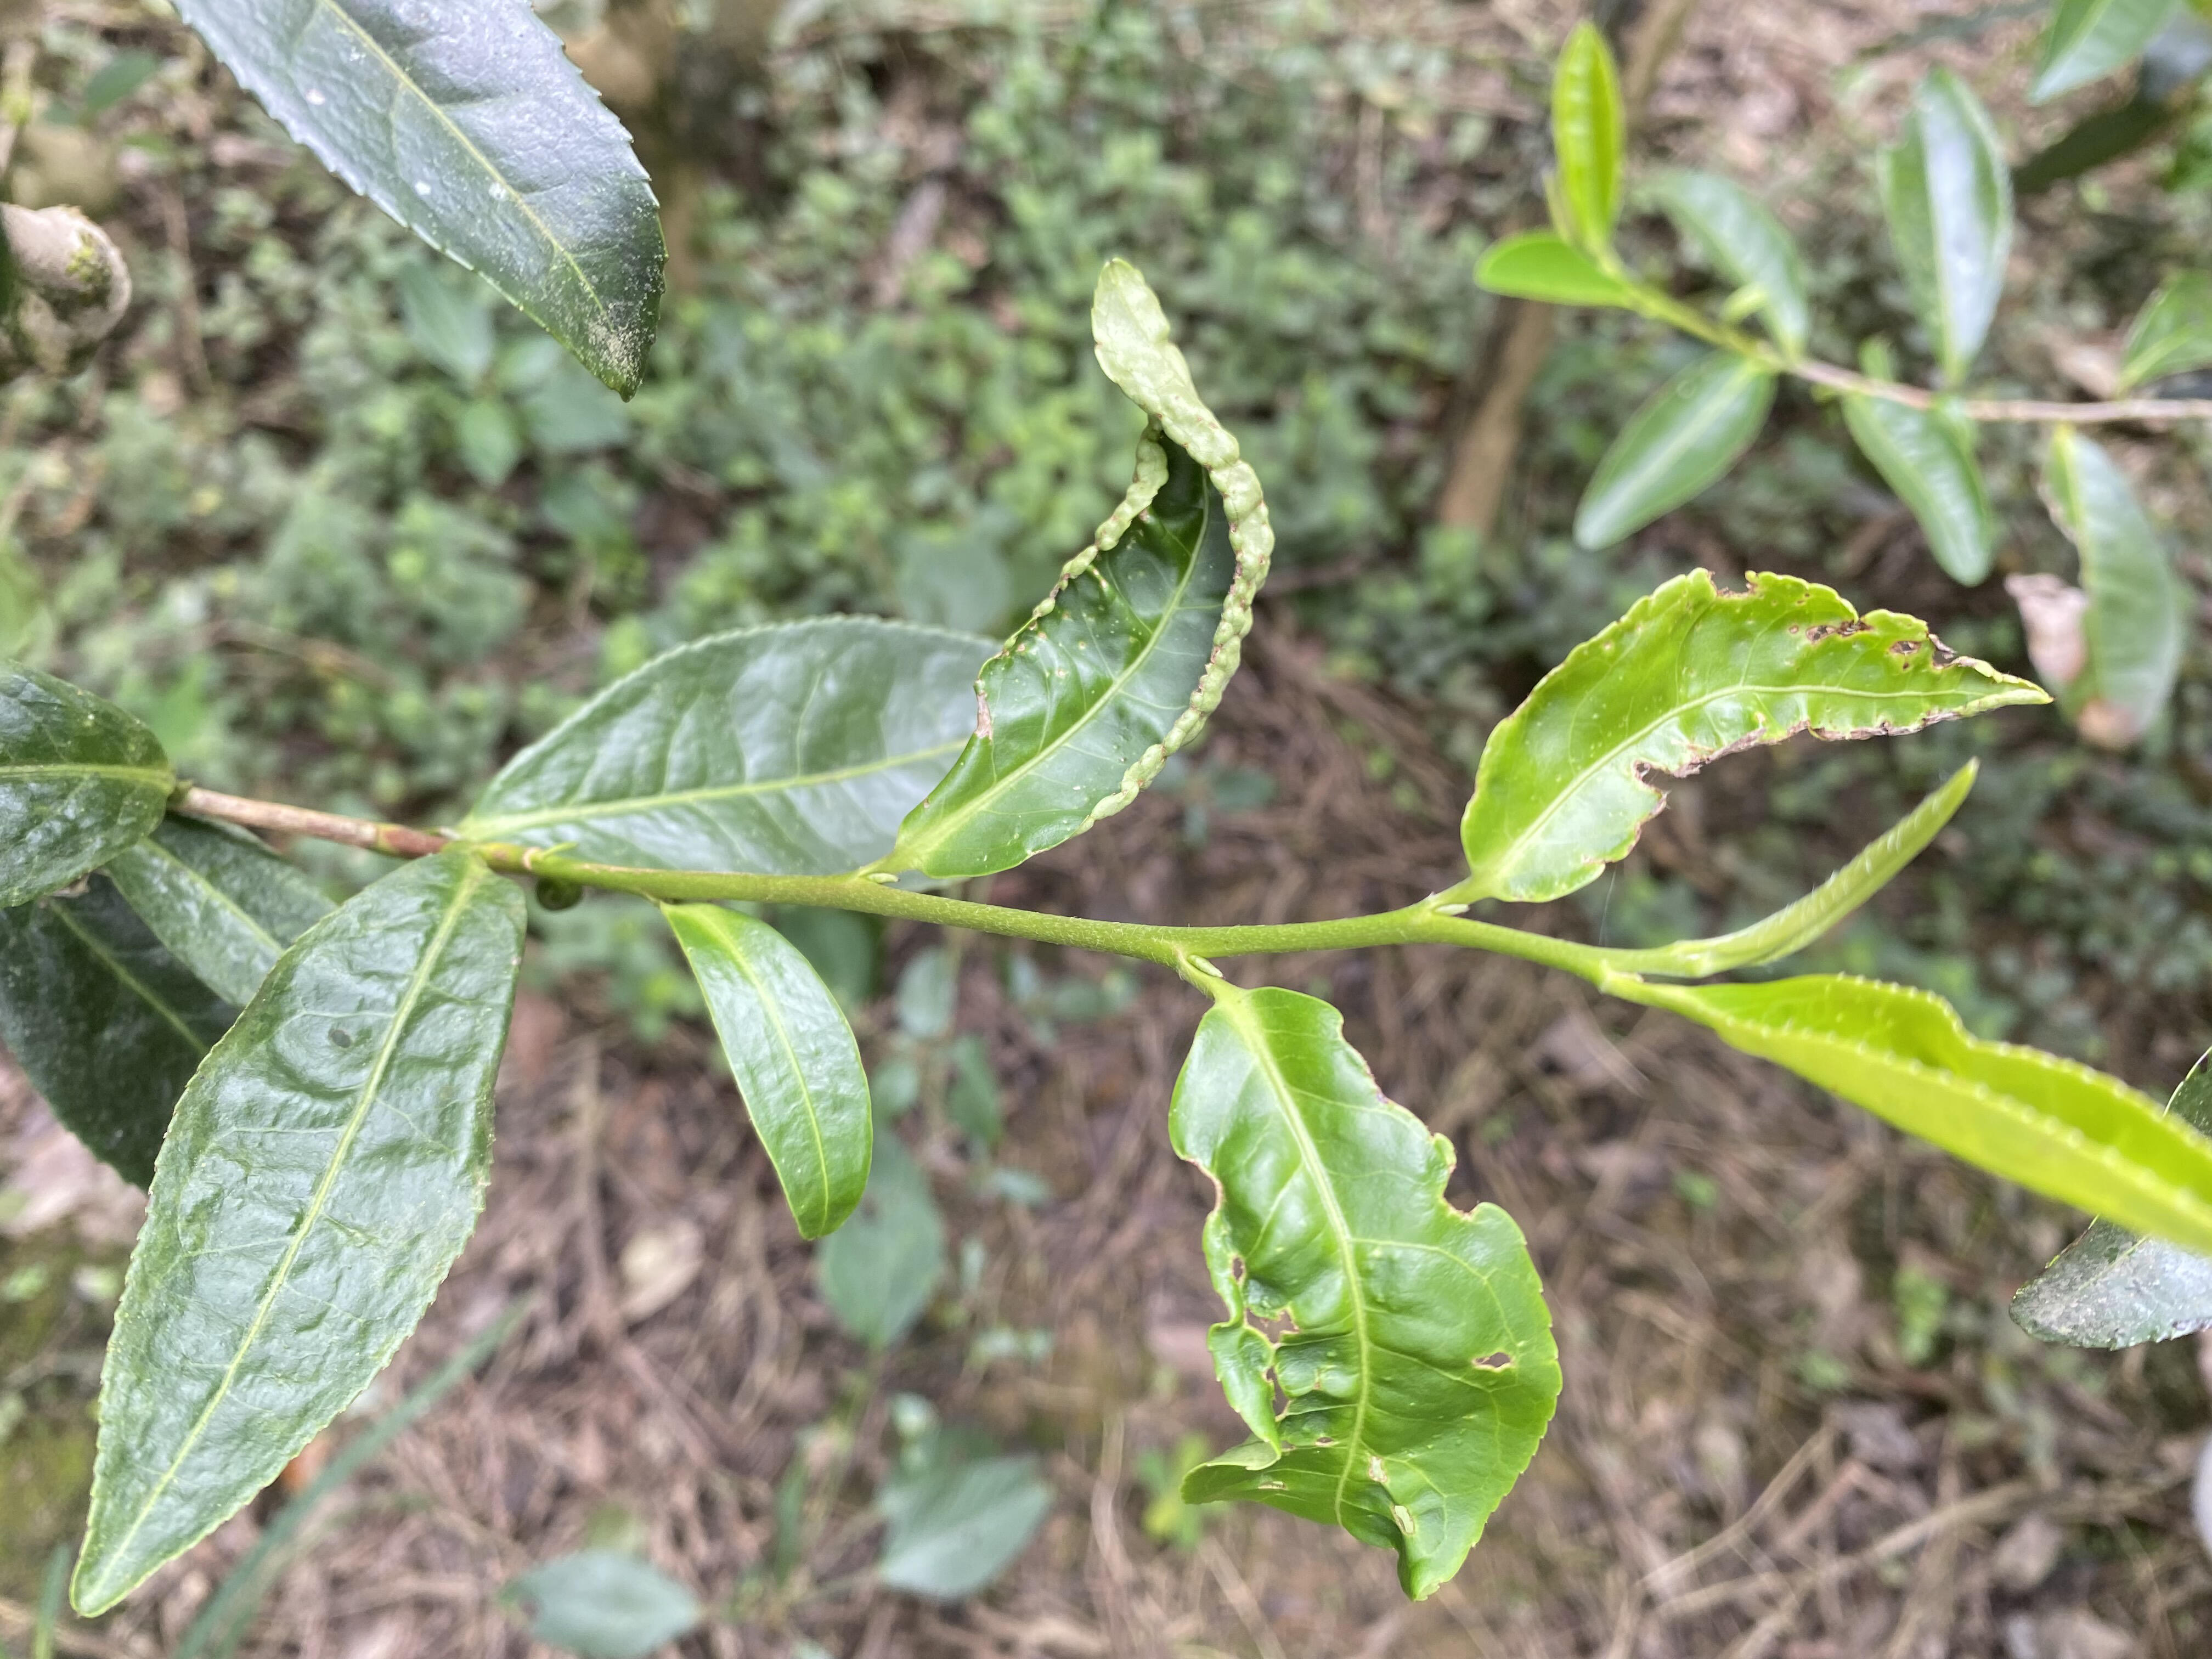chihuo_high: (1163, 986, 1566, 1605), (900, 258, 1280, 880), (1458, 565, 2054, 906)
healthy: (64, 845, 529, 1619), (667, 903, 876, 1241)
